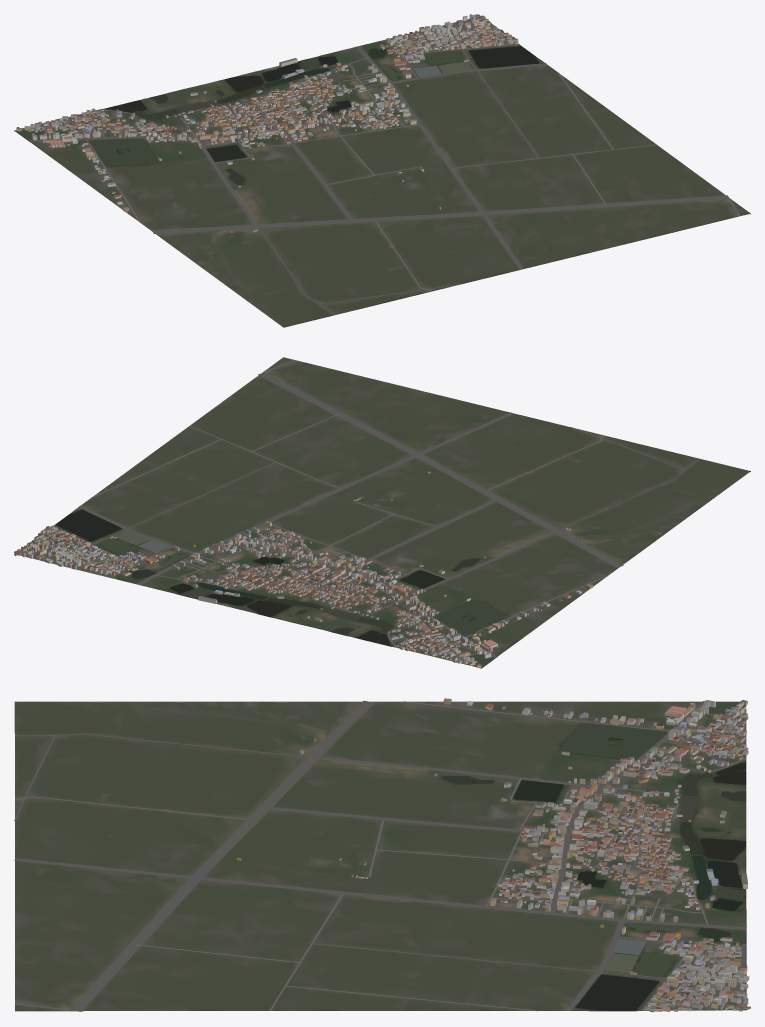
The picture shows the model from 3 angles, top to bottom: view 1: azimuth 30°, elevation 25°; view 2: azimuth 150°, elevation 25°; view 3: azimuth 270°, elevation 25°; orthographic projection. The views are drawn at different scales.
Parts seen in each view (by area): view 1: ground, buildings, roads, water; view 2: ground, buildings, roads, water; view 3: ground, buildings, roads, water.
Part boxes in pixels (x1,y1,x2,y2): ground: (14, 19, 750, 327); buildings: (16, 14, 518, 232); roads: (29, 18, 740, 315); water: (16, 46, 538, 184); ground: (14, 357, 750, 668); buildings: (14, 471, 593, 667); roads: (26, 360, 699, 664); water: (55, 509, 508, 667); ground: (14, 701, 746, 1011); buildings: (236, 698, 750, 1012); roads: (14, 700, 746, 1011); water: (442, 701, 745, 1010).
Size of the model in its own units: 1413 by 19.87 by 1412.
